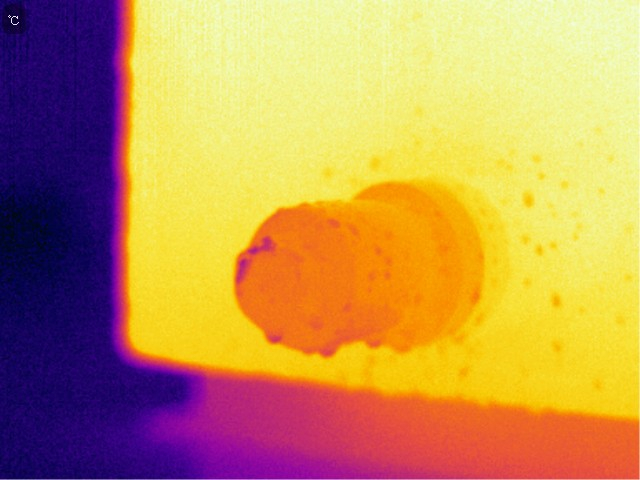Water: (361, 330, 385, 351), (388, 341, 413, 357), (468, 285, 485, 308), (317, 343, 342, 358), (265, 327, 282, 345), (369, 240, 385, 257), (301, 346, 319, 359), (383, 267, 396, 285), (329, 216, 342, 231)
